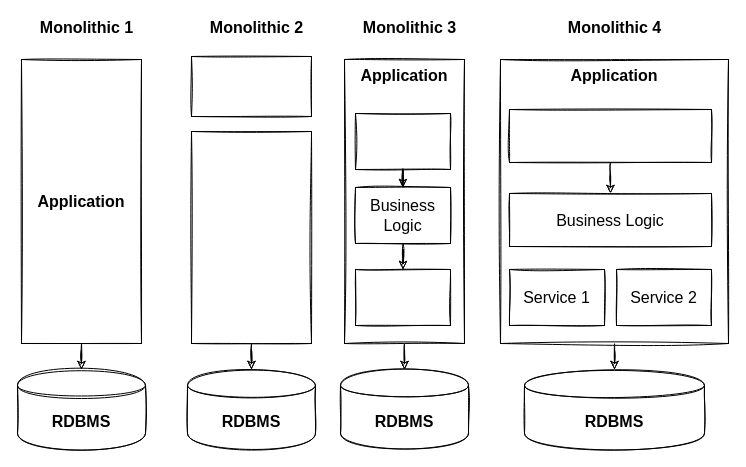
The diagram is 746 pixels wide and 467 high, and some of its shapes have lost their labels. The shapes that lost their labels are listed below. From the top down, each one's box as (x1, y1, x2, y2) in pixels, then its label:
(190, 56, 312, 116): Client
(354, 112, 450, 170): UI
(508, 108, 712, 162): Presentation
(190, 130, 312, 344): Server
(354, 268, 450, 326): Data Access
